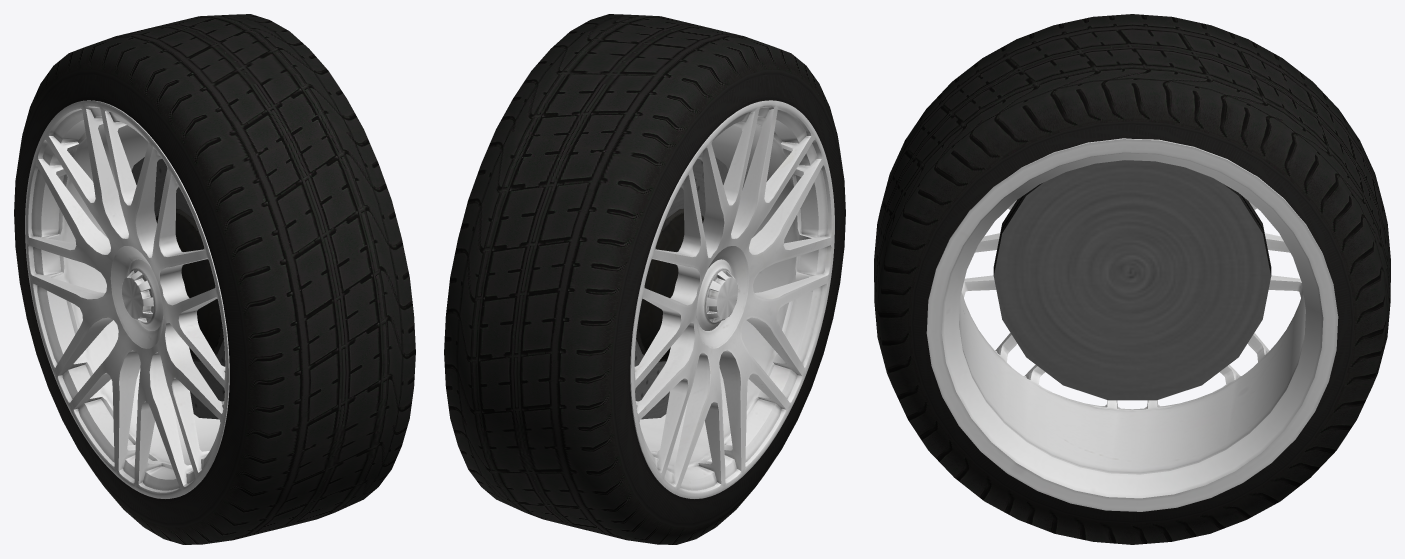
The model's file is Wheel_LOD0.obj.
The picture shows the model from 3 angles, left to right: view 1: azimuth 30°, elevation 25°; view 2: azimuth 150°, elevation 25°; view 3: azimuth 270°, elevation 25°; orthographic projection.
Visible parts, largest first — view 1: WheelFrontLeft_LOD0_1, WheelFrontLeft_LOD0_0; view 2: WheelFrontLeft_LOD0_1, WheelFrontLeft_LOD0_0; view 3: WheelFrontLeft_LOD0_1, WheelFrontLeft_LOD0_0.
Part boxes in pixels (x1,y1,x2,y2): WheelFrontLeft_LOD0_1: (14,14,415,544); WheelFrontLeft_LOD0_0: (25,100,229,498); WheelFrontLeft_LOD0_1: (444,14,845,544); WheelFrontLeft_LOD0_0: (630,100,834,498); WheelFrontLeft_LOD0_1: (874,14,1390,544); WheelFrontLeft_LOD0_0: (926,138,1338,511).
Size of the model in its own units: 0.2656 by 0.653 by 0.653.
2 materials, 2 textured.
